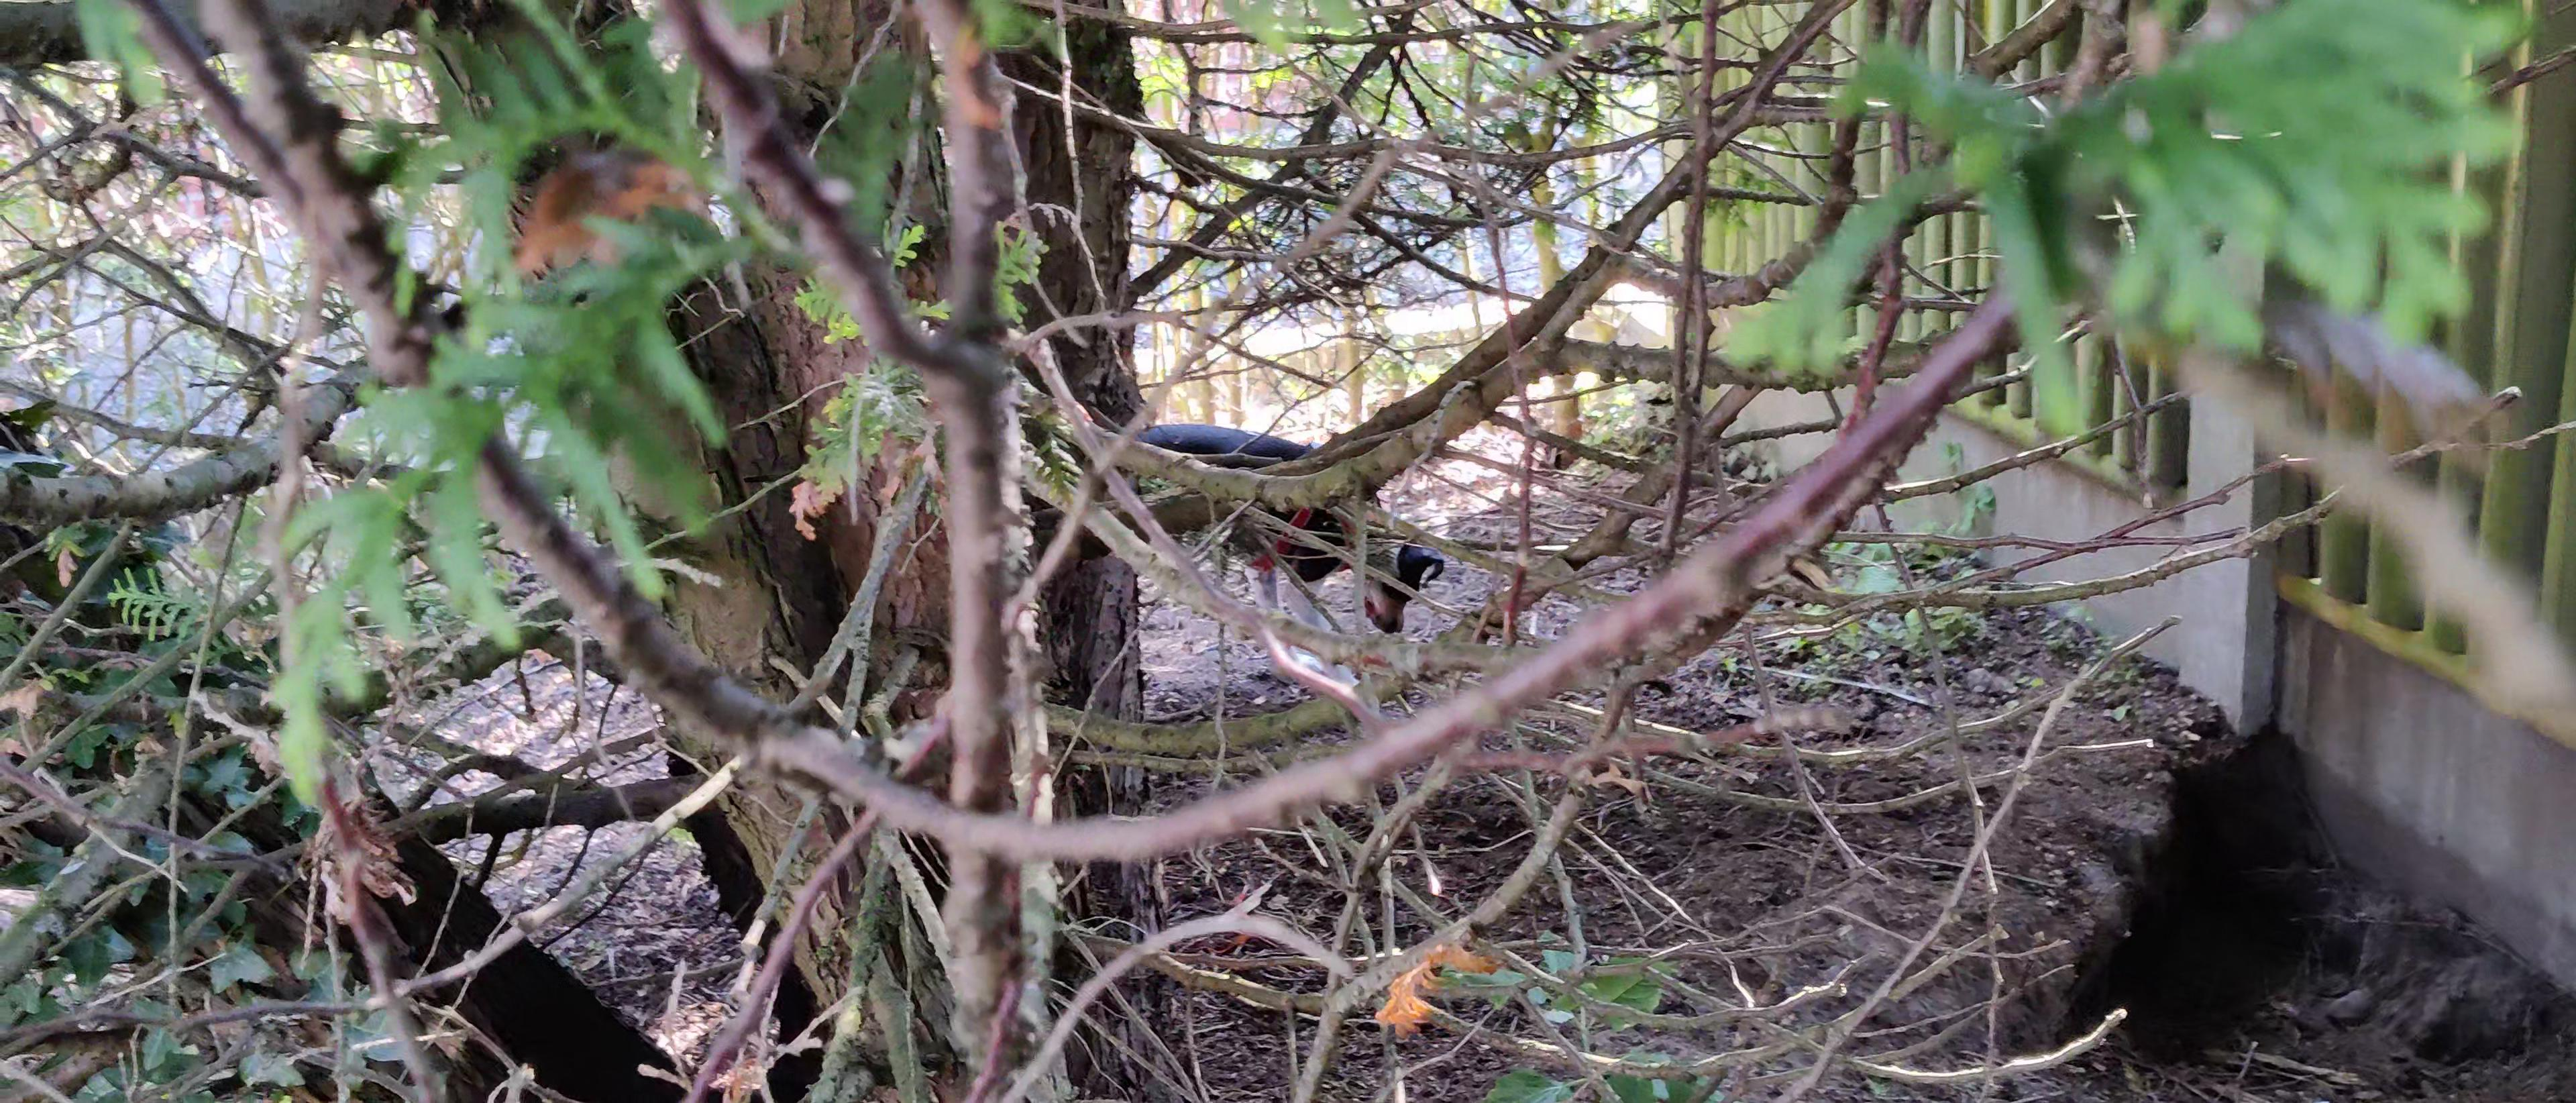Dog: (1101, 408, 1454, 702)
